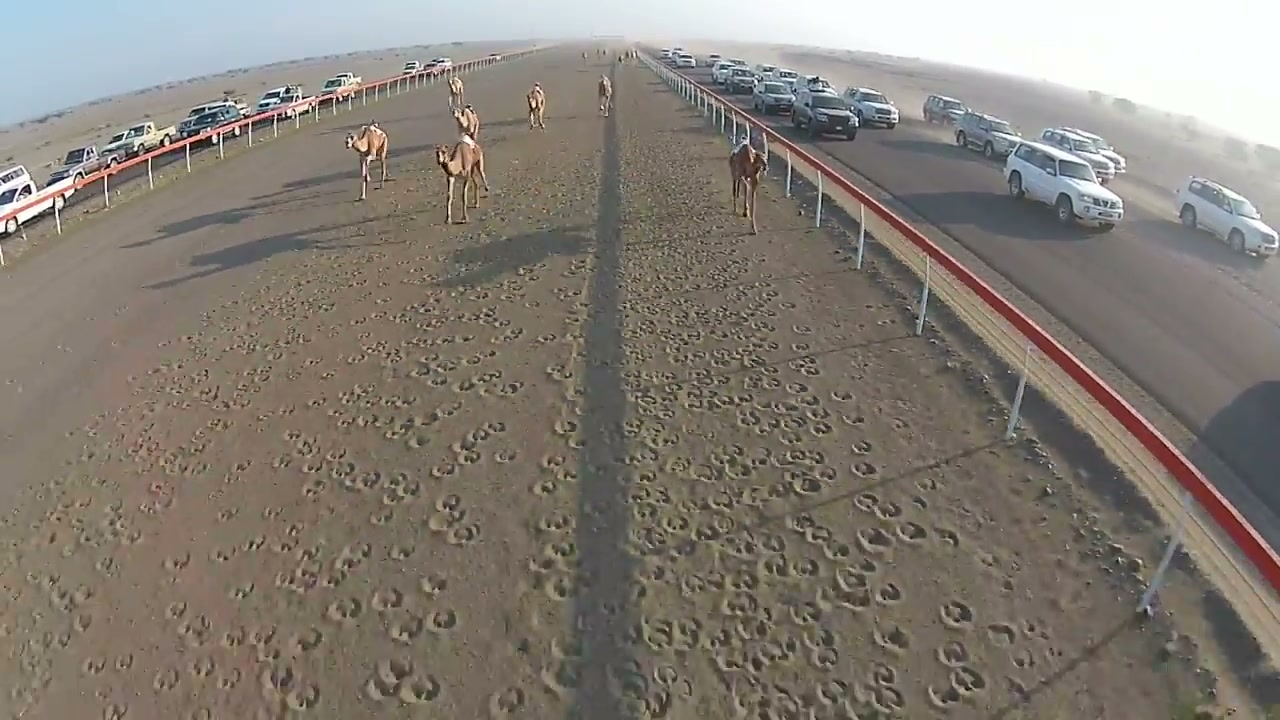animal_foot_print: (0, 66, 1139, 719), (623, 233, 1019, 716), (288, 448, 485, 642), (286, 433, 417, 503), (608, 661, 693, 716), (823, 662, 906, 717), (364, 656, 438, 704), (258, 659, 320, 711), (426, 494, 480, 545), (926, 665, 987, 710), (281, 441, 349, 480), (274, 564, 329, 594), (370, 656, 413, 694), (540, 659, 579, 699), (858, 684, 906, 716), (396, 674, 442, 704), (534, 569, 574, 601), (381, 473, 421, 505), (488, 686, 526, 719), (282, 680, 321, 712), (831, 566, 871, 597), (387, 612, 425, 644), (332, 541, 372, 571), (176, 615, 212, 647), (248, 624, 279, 661), (949, 665, 986, 696), (326, 597, 364, 626), (856, 526, 894, 554), (872, 625, 910, 653), (542, 540, 578, 569), (450, 433, 482, 465), (784, 471, 826, 495), (815, 679, 850, 707), (538, 510, 575, 536), (941, 600, 973, 630), (801, 625, 838, 650), (290, 626, 323, 653), (788, 601, 823, 626), (937, 640, 969, 667), (426, 608, 459, 633), (370, 587, 404, 611), (549, 636, 583, 660), (867, 661, 898, 686), (1019, 617, 1050, 641), (808, 647, 839, 671), (896, 520, 927, 543), (388, 431, 427, 449), (219, 626, 248, 650), (987, 623, 1017, 646), (419, 573, 447, 597), (153, 667, 180, 691), (163, 552, 191, 575), (875, 583, 904, 605), (1010, 647, 1037, 670), (852, 491, 880, 513), (386, 541, 415, 562), (237, 534, 267, 554), (318, 569, 348, 589), (873, 500, 902, 520), (530, 477, 559, 496), (545, 363, 574, 381), (540, 454, 567, 473), (430, 460, 457, 479), (663, 456, 691, 474), (935, 527, 960, 547), (228, 581, 255, 599), (101, 701, 128, 719), (302, 478, 327, 497), (553, 418, 577, 437), (81, 657, 106, 675), (852, 460, 878, 477), (493, 447, 518, 464), (165, 600, 186, 620), (113, 651, 133, 671), (915, 477, 940, 493), (186, 705, 214, 719), (839, 413, 866, 427), (830, 389, 855, 403), (852, 440, 873, 454), (910, 495, 929, 510), (890, 417, 909, 430)
